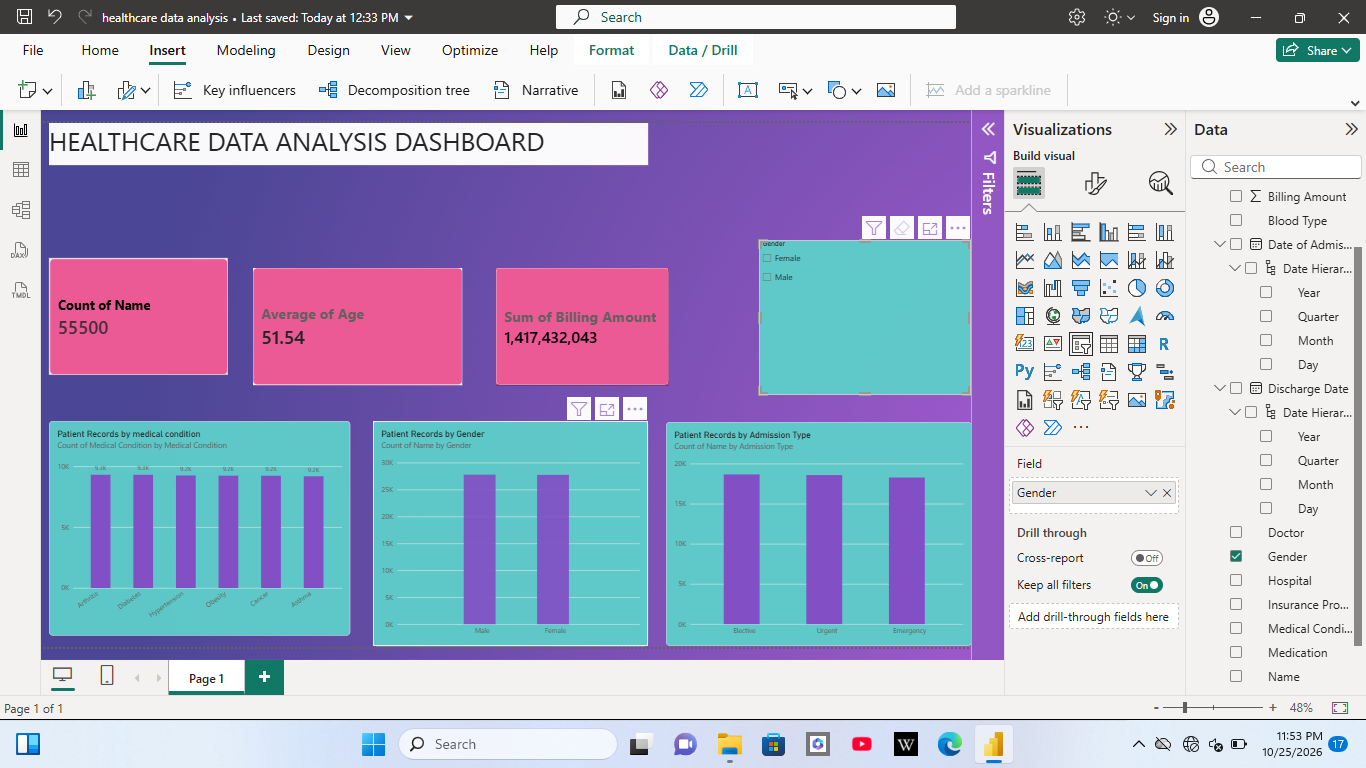

This screenshot's page, from the dashboard's own definition file:
{"tool":"powerbi","page":{"name":"Page 1","canvas":[1920,1080],"ordinal":0},"visuals":[{"type":"cardVisual","fields":{"Data":["CountNonNull(healthcare_dataset.Name)"]},"box":[16.5,278.7,369.4,241.9],"z":0},{"type":"cardVisual","fields":{"Data":["Avg(healthcare_dataset.Age)"]},"box":[437.7,299.4,432,241.9],"z":1},{"type":"cardVisual","fields":{"Data":["Sum(healthcare_dataset.Billing Amount)"]},"box":[939.4,299.4,356.4,241.9],"z":2},{"type":"clusteredColumnChart","title":"Patient Records by medical condition","fields":{"Category":["healthcare_dataset.Medical Condition"],"Y":["CountNonNull(healthcare_dataset.Medical Condition)"]},"box":[16.5,615.2,622.1,442.8],"z":3},{"type":"clusteredColumnChart","title":"Patient Records by Gender","fields":{"Category":["healthcare_dataset.Gender"],"Y":["CountNonNull(healthcare_dataset.Name)"]},"box":[685.4,615.2,567.7,464.5],"z":4},{"type":"clusteredColumnChart","title":"Patient Records by Admission Type","fields":{"Category":["healthcare_dataset.Admission Type"],"Y":["CountNonNull(healthcare_dataset.Name)"]},"box":[1290.3,617.3,630.7,462.2],"z":5},{"type":"slicer","fields":{"Values":["healthcare_dataset.Gender"]},"box":[1482.3,241.5,438.5,319.7],"z":6},{"type":"textbox","box":[16.5,0,1236.6,86.7],"z":7}]}

Visuals, with their boxes on the page's 1920x1080 design canvas (x1, y1, x2, y2). These are canvas units, not pixel positions in the 1366x768 screenshot, which may show the page scaled, cropped or inside an application window:
cardVisual - CountNonNull(healthcare_dataset.Name): (16,279,386,521)
cardVisual - Avg(healthcare_dataset.Age): (438,299,870,541)
cardVisual - Sum(healthcare_dataset.Billing Amount): (939,299,1296,541)
"Patient Records by medical condition" clusteredColumnChart: (16,615,639,1058)
"Patient Records by Gender" clusteredColumnChart: (685,615,1253,1080)
"Patient Records by Admission Type" clusteredColumnChart: (1290,617,1921,1080)
slicer - healthcare_dataset.Gender: (1482,242,1921,561)
textbox: (16,0,1253,87)
